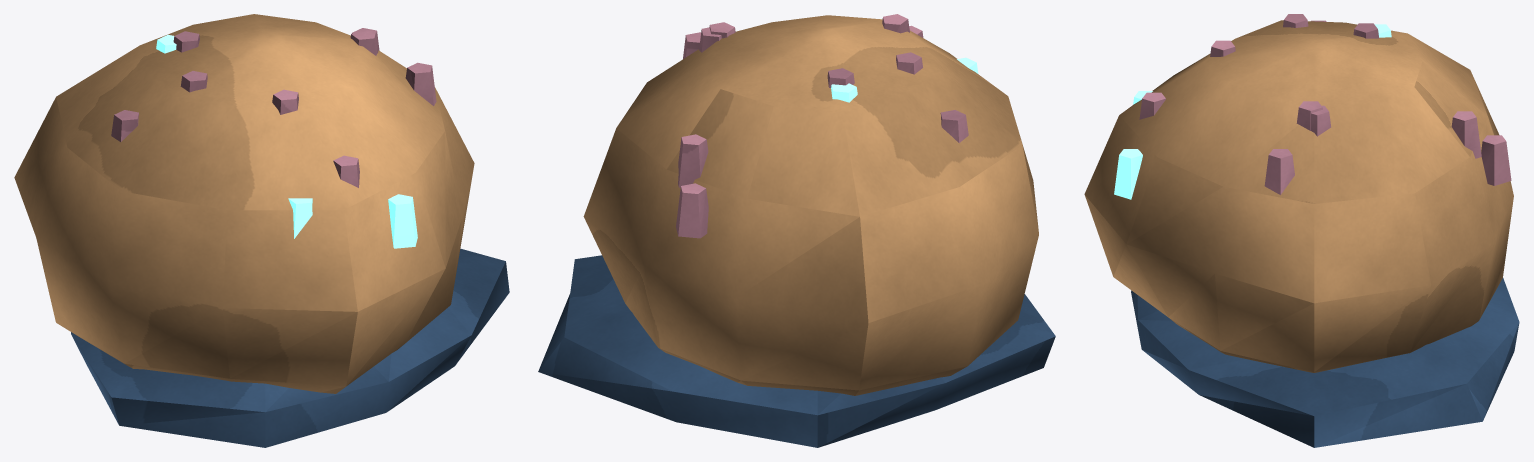
File: mound_coral.glb
3 views of the same model, side by side, from view 1: azimuth 30°, elevation 25°; view 2: azimuth 150°, elevation 25°; view 3: azimuth 270°, elevation 25° (orthographic). The views are drawn at different scales.
Parts seen in each view (by area): view 1: DL006_MoundCoral_coral_orange, DL006_MoundCoral_shadow_blue, DL006_MoundCoral_coral_pink, DL006_MoundCoral_emissive_teal; view 2: DL006_MoundCoral_coral_orange, DL006_MoundCoral_shadow_blue, DL006_MoundCoral_coral_pink, DL006_MoundCoral_emissive_teal; view 3: DL006_MoundCoral_coral_orange, DL006_MoundCoral_shadow_blue, DL006_MoundCoral_coral_pink, DL006_MoundCoral_emissive_teal.
Part boxes in pixels (x1,y1,x2,y2): DL006_MoundCoral_coral_orange: (14, 14, 474, 393); DL006_MoundCoral_shadow_blue: (71, 248, 509, 447); DL006_MoundCoral_coral_pink: (111, 28, 436, 187); DL006_MoundCoral_emissive_teal: (156, 34, 417, 248); DL006_MoundCoral_coral_orange: (583, 15, 1038, 395); DL006_MoundCoral_shadow_blue: (538, 255, 1055, 447); DL006_MoundCoral_coral_pink: (676, 14, 968, 238); DL006_MoundCoral_emissive_teal: (831, 57, 978, 102); DL006_MoundCoral_coral_orange: (1084, 20, 1513, 372); DL006_MoundCoral_shadow_blue: (1131, 278, 1519, 447); DL006_MoundCoral_coral_pink: (1139, 14, 1511, 194); DL006_MoundCoral_emissive_teal: (1114, 24, 1391, 199).
Bounding box in the file's own units: 1.32 × 1 × 1.22.
4 materials, 3 textured.
